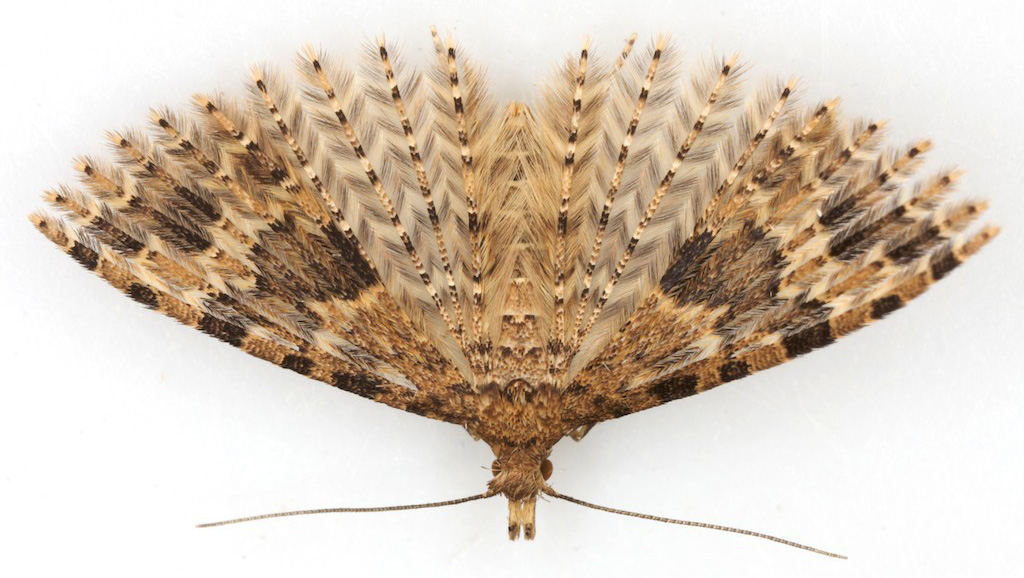Alucitidae: (31, 28, 1010, 576)
moth: (33, 30, 1012, 578)
